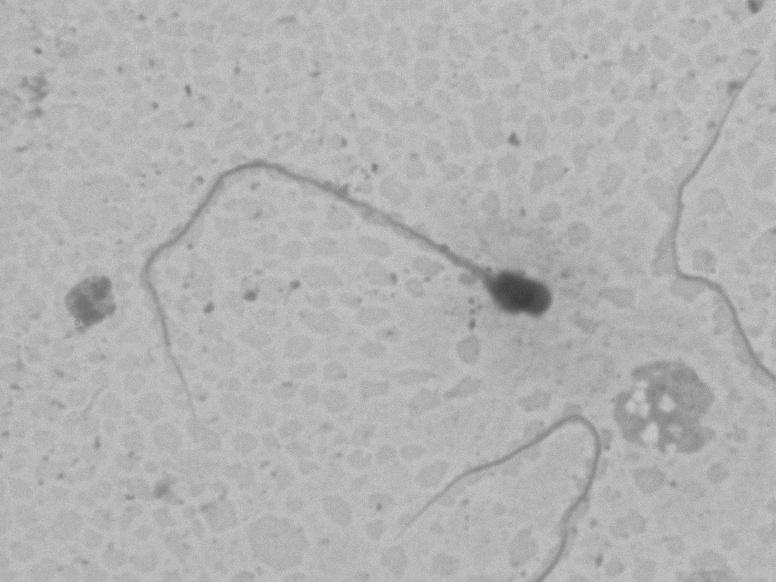Abnormal: (123, 145, 563, 442)
